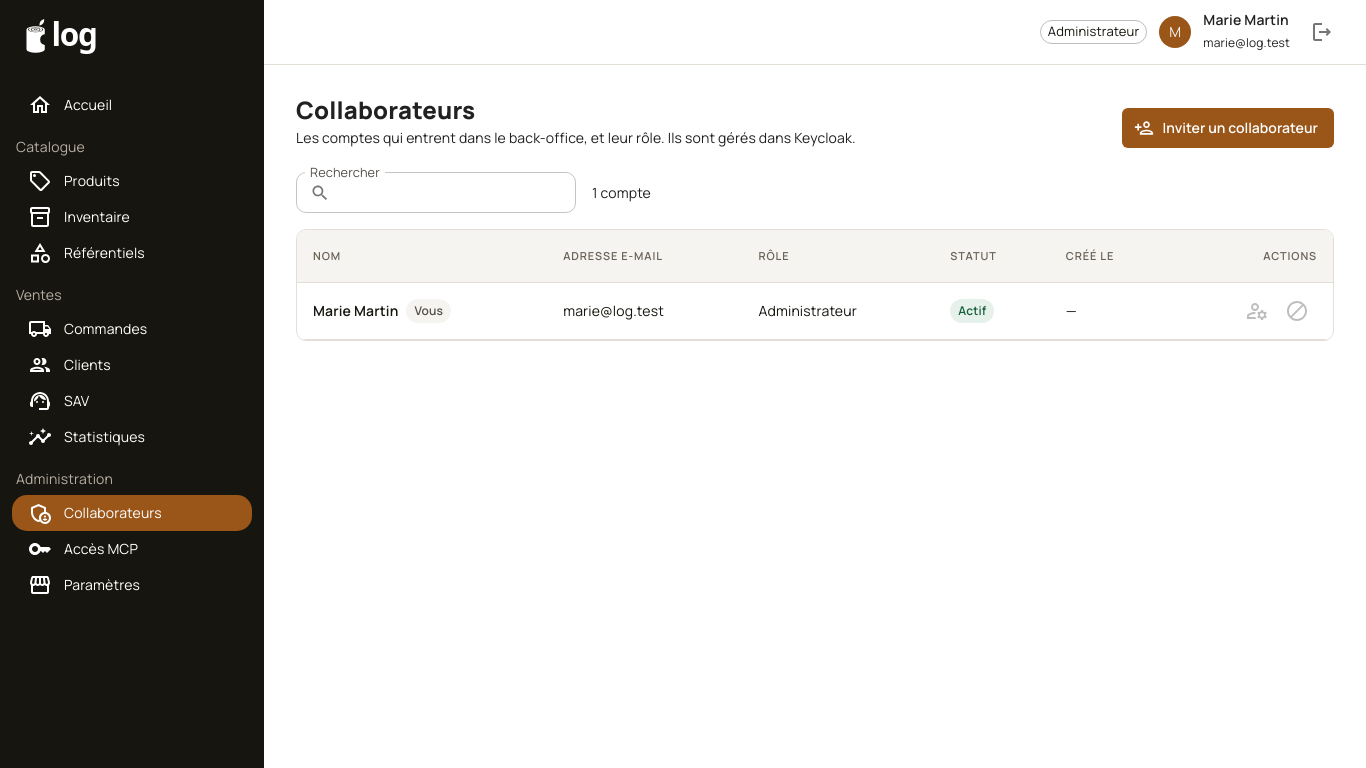
Test: the collaborators (U08) › says why Keycloak refused an address, in French
Click the button "Inviter un collaborateur" at (1228,128), box [1122,108,1334,148]
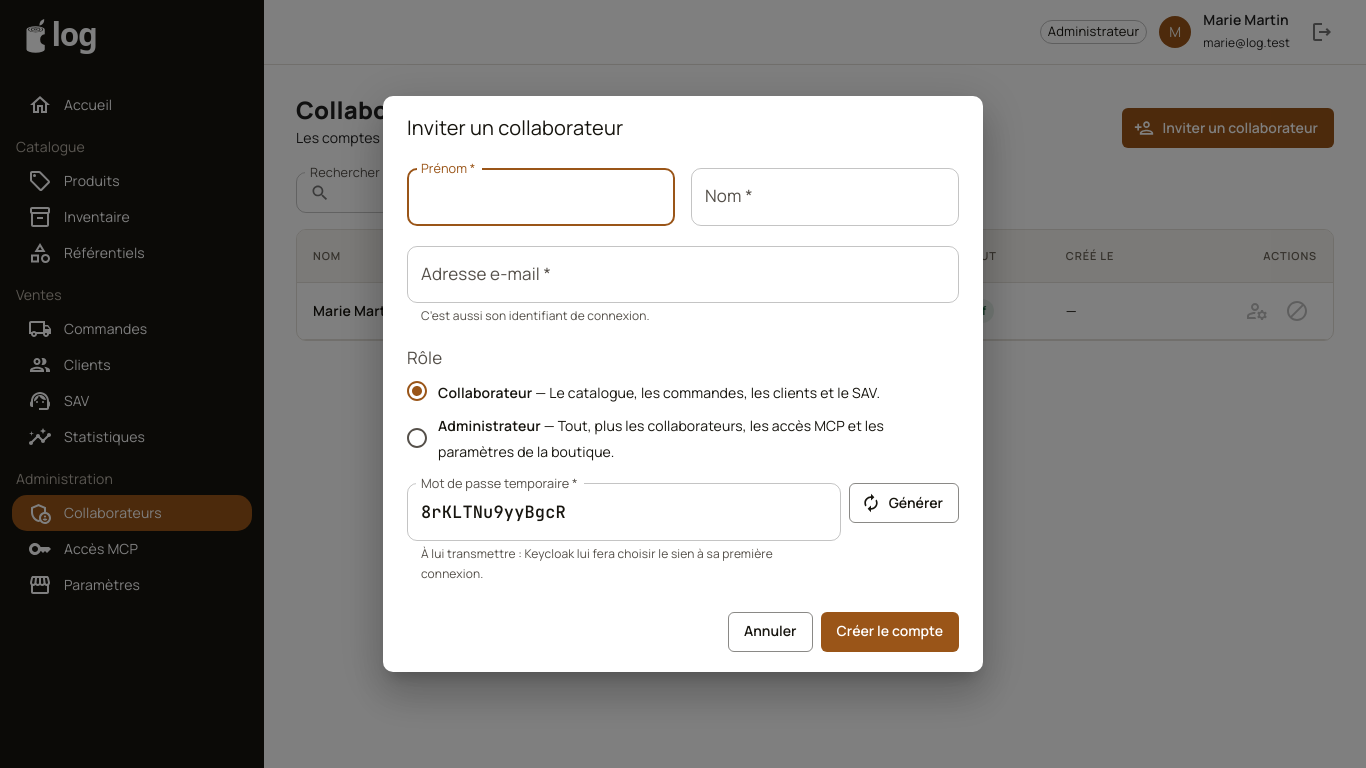
Type "Client" into the field labelled "Prénom" at (541,197), box [407,168,675,226]
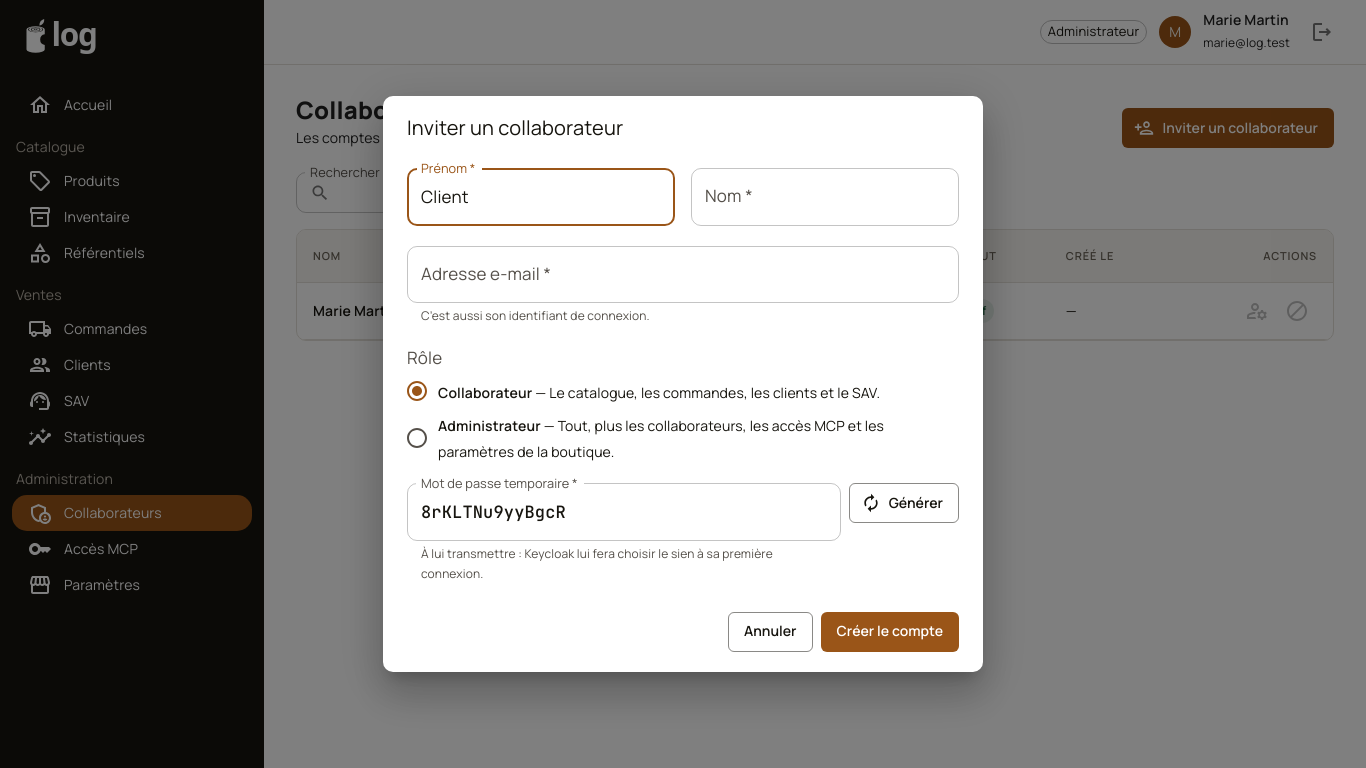
Type "Demo" into the field labelled "Nom" at (825,197), box [691,168,959,226]
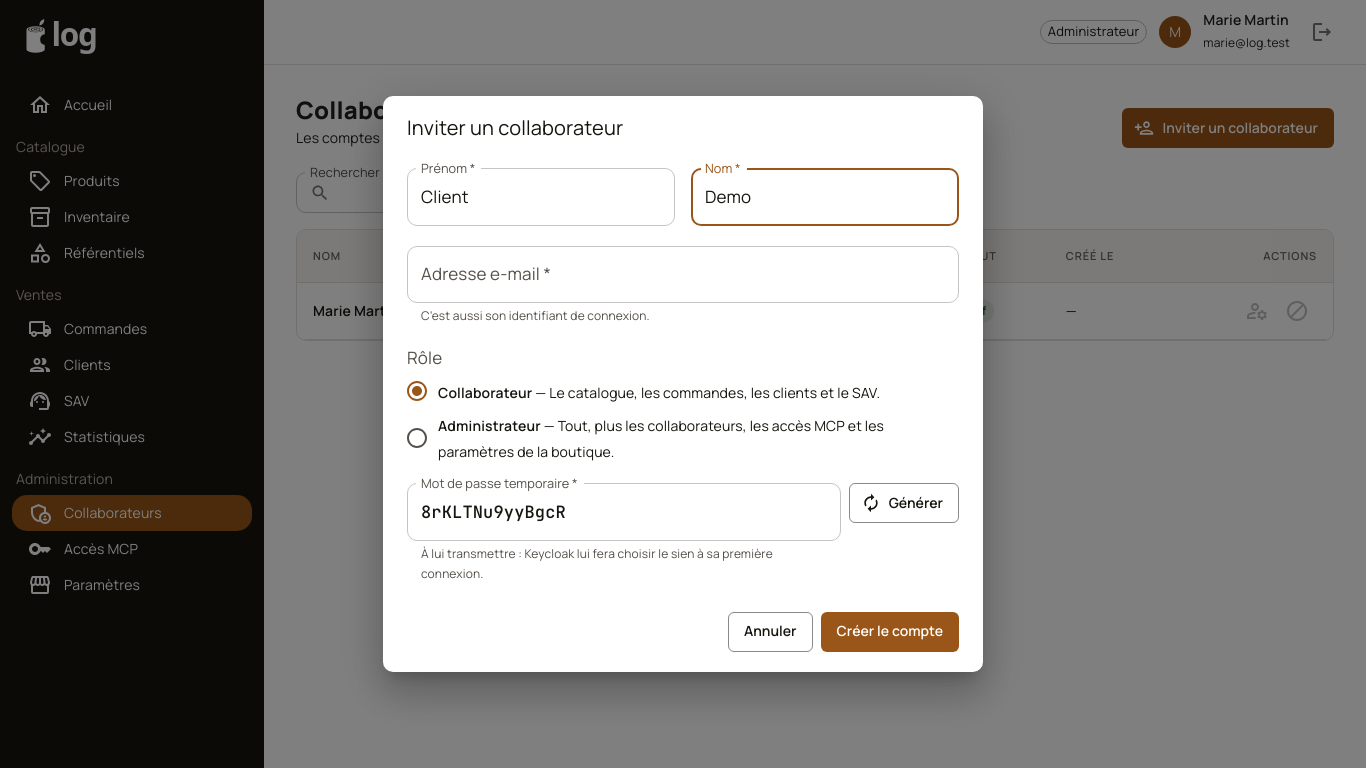
Type "client@log.test" into the field labelled "Adresse e-mail" at (683,274), box [407,246,959,303]
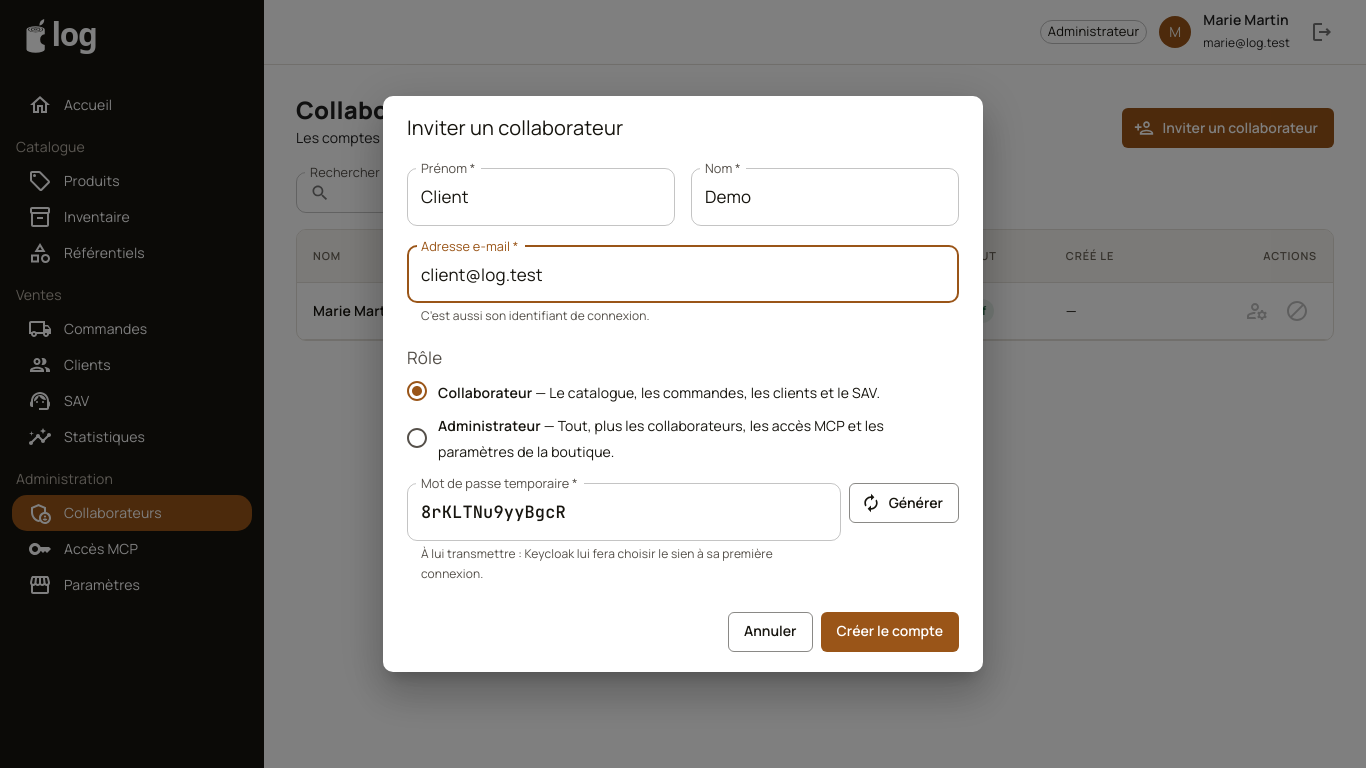
Click the button "Créer le compte" at (890,632), box [820,612,959,652]
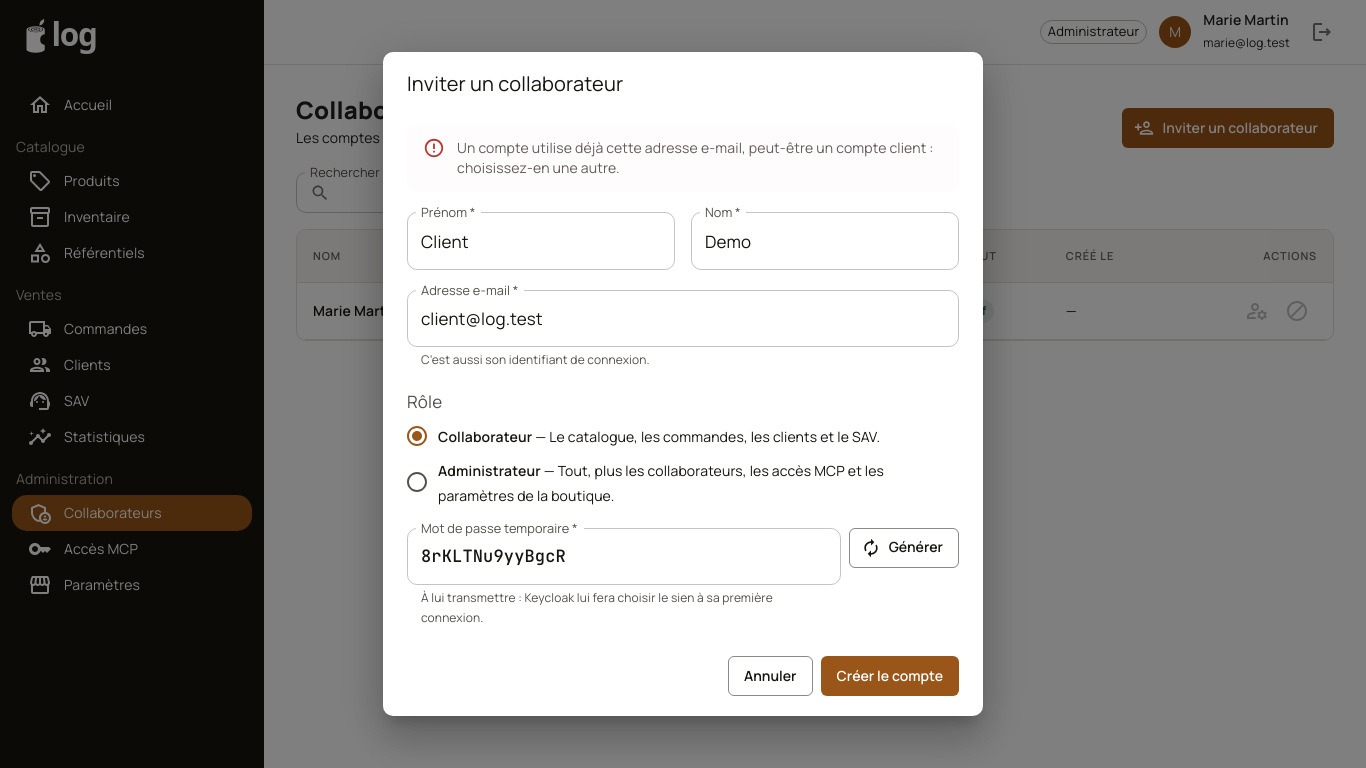
Now the message shows "Un compte utilise déjà cette adresse e-mail", box [457,138,934,177]
